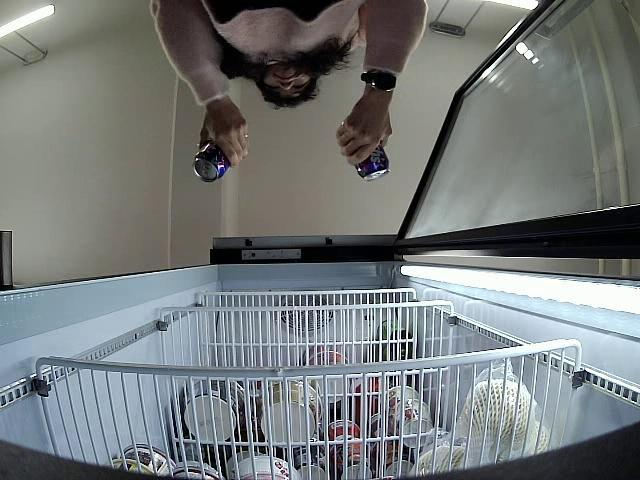14_welchsGrape: (193, 142, 230, 183), (354, 140, 390, 180)
